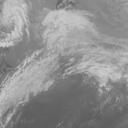cyclone: (40, 21, 107, 84)
